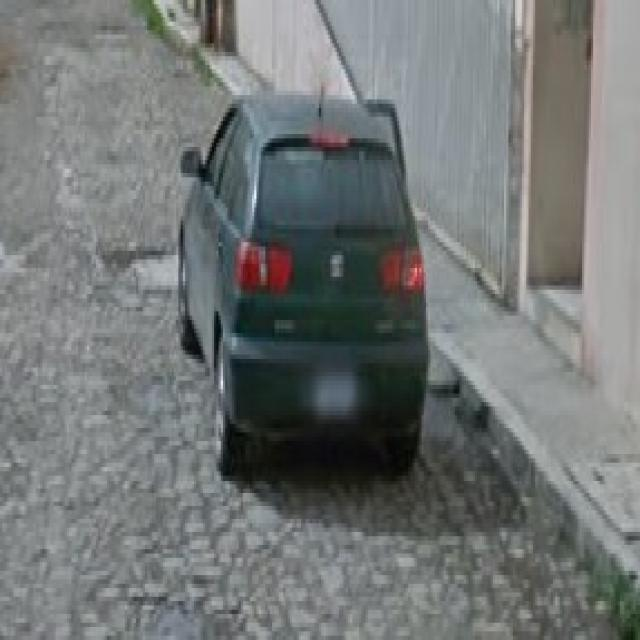cars: (162, 91, 432, 494)
